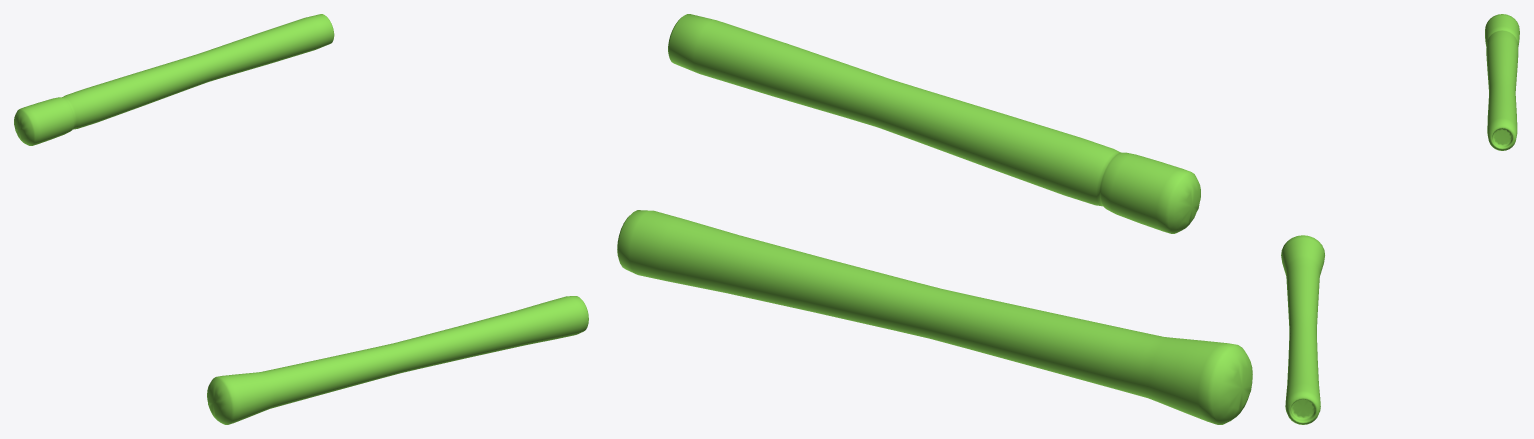
File: entrance_poles.obj
The picture shows the model from 3 angles, left to right: view 1: azimuth 30°, elevation 25°; view 2: azimuth 150°, elevation 25°; view 3: azimuth 270°, elevation 25°; orthographic projection. The views are drawn at different scales.
Parts seen in each view (by area): view 1: Cylinder02, Cylinder01; view 2: Cylinder02, Cylinder01; view 3: Cylinder02, Cylinder01.
Boxes of the visible parts, bbox=[...] form: Cylinder02: bbox=[207, 296, 588, 424]; Cylinder01: bbox=[14, 14, 334, 145]; Cylinder02: bbox=[617, 210, 1252, 424]; Cylinder01: bbox=[668, 14, 1200, 233]; Cylinder02: bbox=[1281, 235, 1324, 424]; Cylinder01: bbox=[1485, 14, 1519, 150].
Size of the model in its own units: 25.12 by 14.6 by 12.98.
